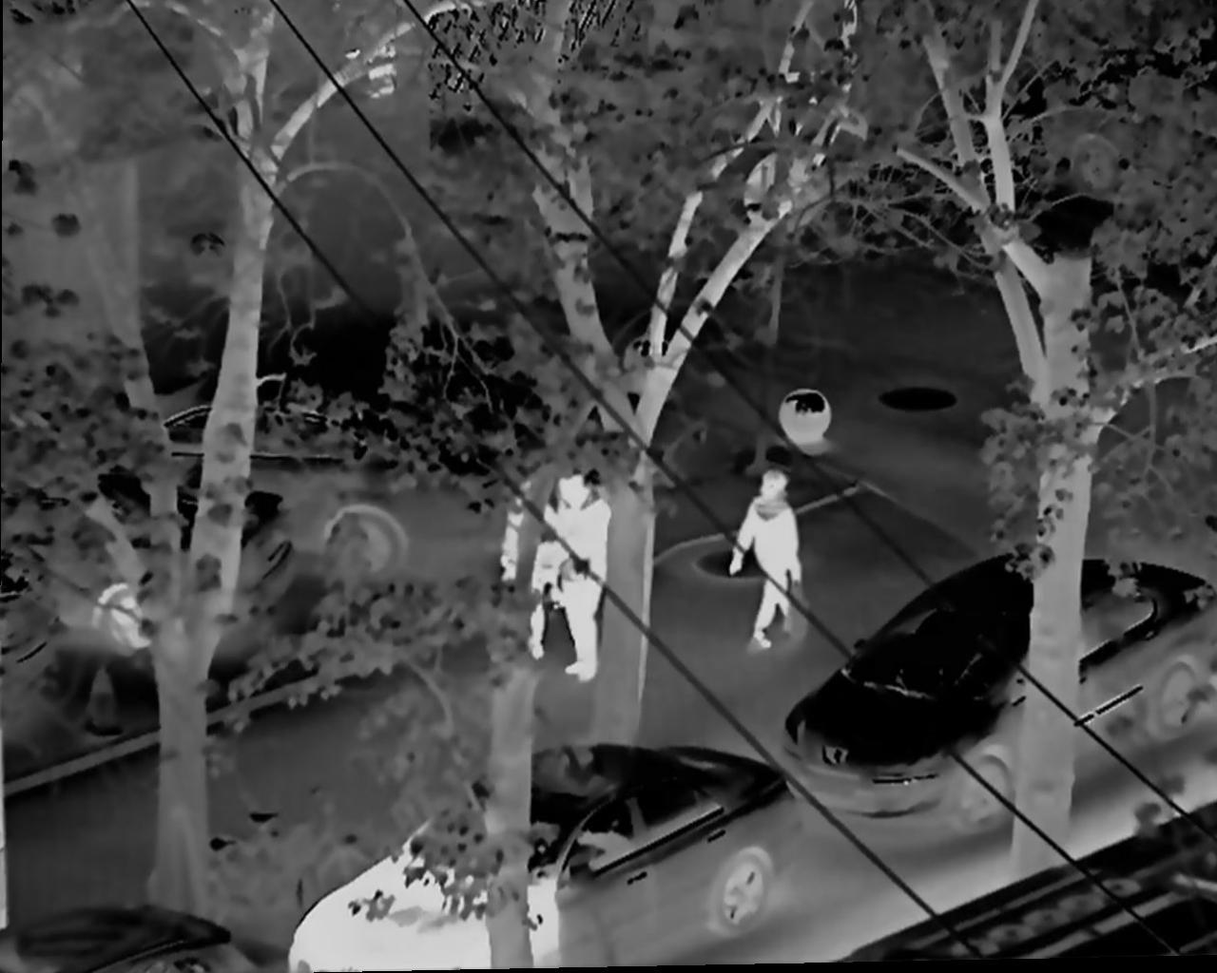person: (730, 468, 805, 666), (494, 467, 567, 659), (563, 488, 622, 679)
